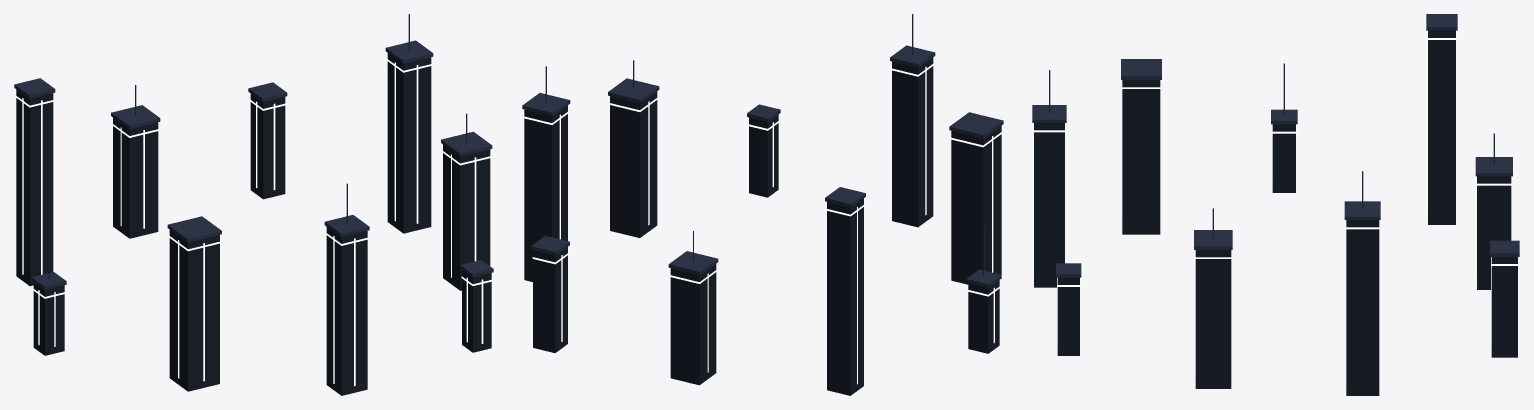
The picture shows the model from 3 angles, left to right: view 1: azimuth 30°, elevation 25°; view 2: azimuth 150°, elevation 25°; view 3: azimuth 270°, elevation 25°; orthographic projection. The views are drawn at different scales.
Visible parts, largest first — view 1: nexo_spires_frontera.lod0; view 2: nexo_spires_frontera.lod0; view 3: nexo_spires_frontera.lod0.
Boxes of the visible parts, x1,y1,x2,y2 form: nexo_spires_frontera.lod0: [14, 14, 493, 395]; nexo_spires_frontera.lod0: [522, 14, 1003, 395]; nexo_spires_frontera.lod0: [1032, 14, 1519, 395].
Size of the model in its own units: 25.99 by 12.3 by 24.95.
